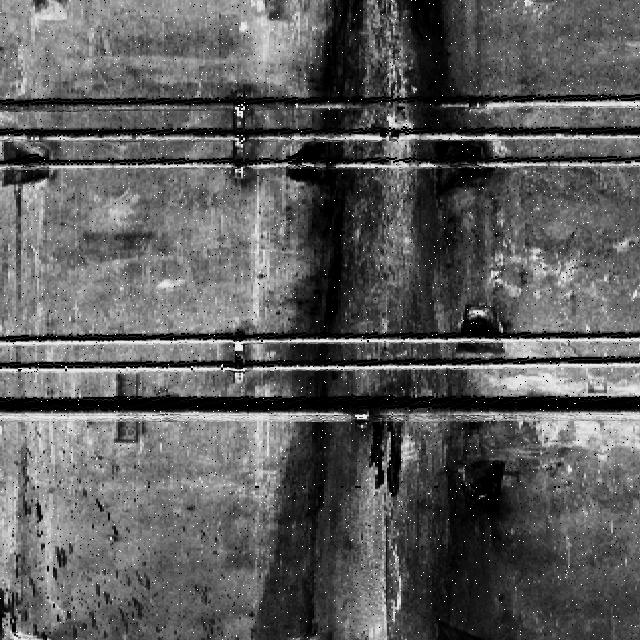leakage: (244, 1, 557, 639)
